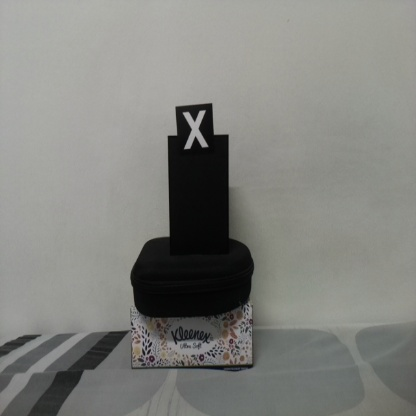id_13: (175, 105, 214, 155)
